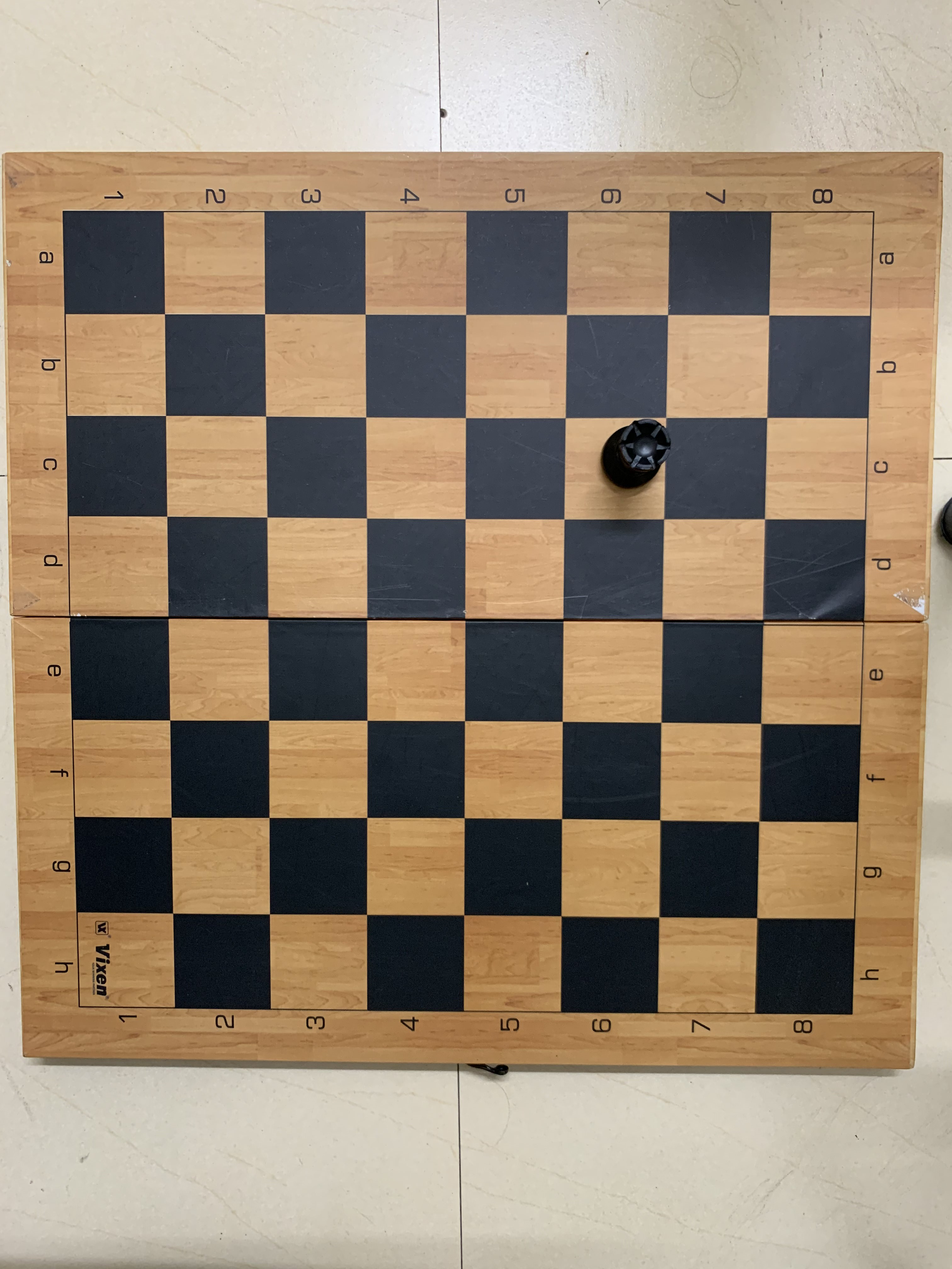black_rook: (581, 416, 673, 499)
